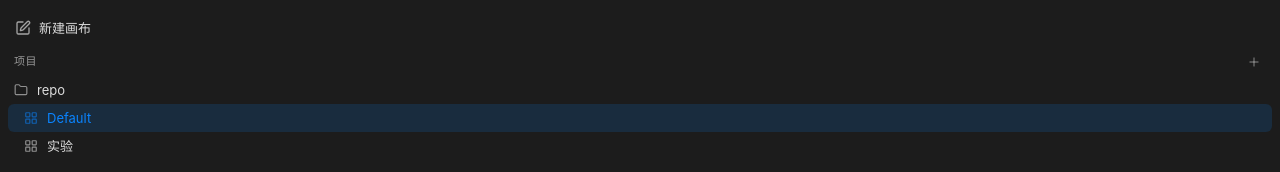
WorkspaceTree › 双击项目改名，失焦保存，不修改磁盘路径
Double-click the button "repo": (51, 90) [32,76,1240,104]
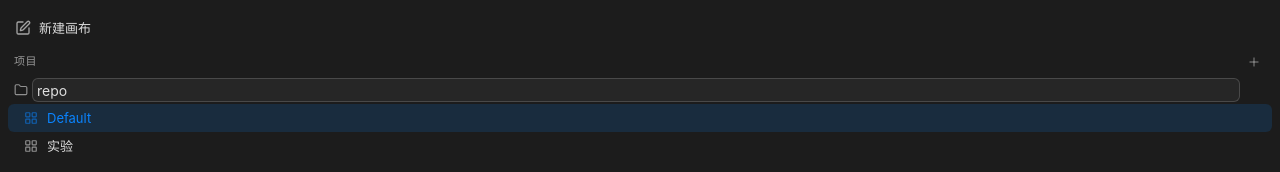
Replace the text in the field named "工作空间名称" with "新项目": (636, 90) [32,78,1240,102]
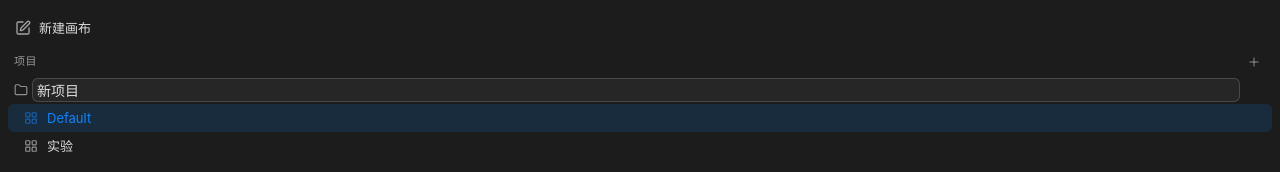
Leave the field named "工作空间名称", box [32,78,1240,102]
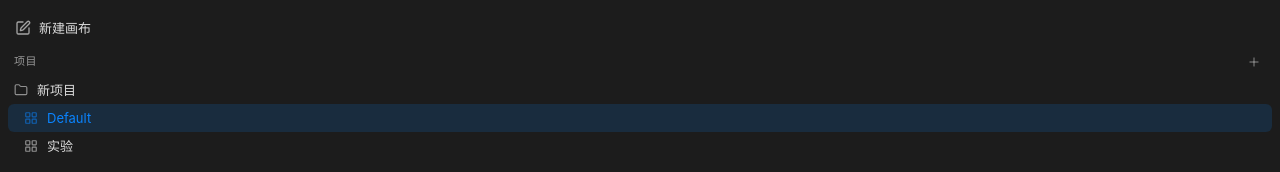
Check: the text "新项目" is shown, box [37,81,76,99]
